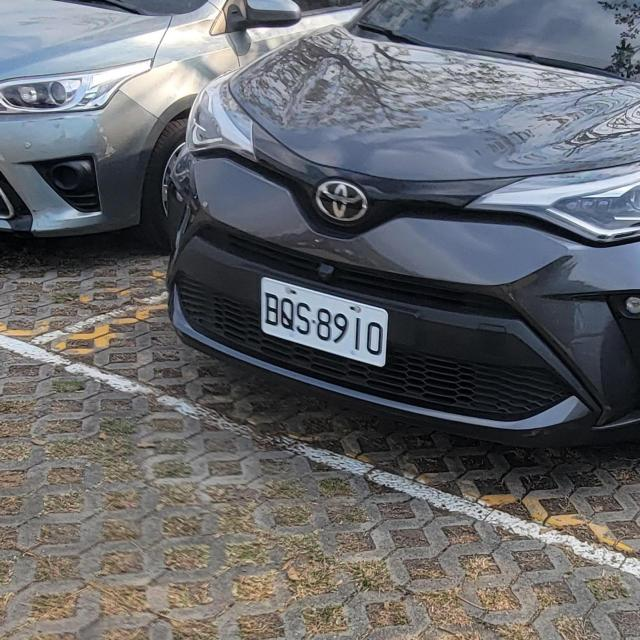W: (258, 278, 390, 365)
